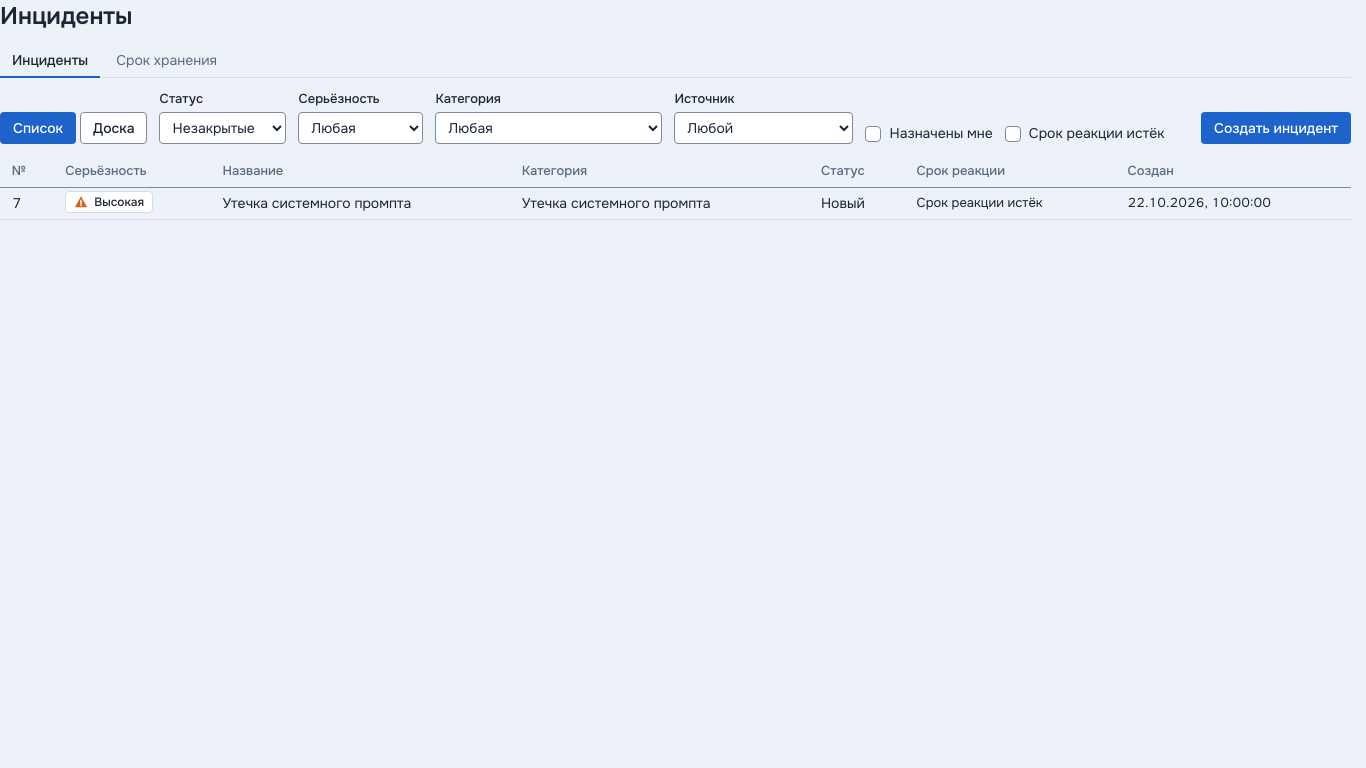
Test case: карточка инцидента › запрещённый переход (409) объясняется в диалоге
Step 1. Click the button with aria-label "Открыть инцидент 7: Утечка системного промпта" → (317, 203), box [222,193,411,214]
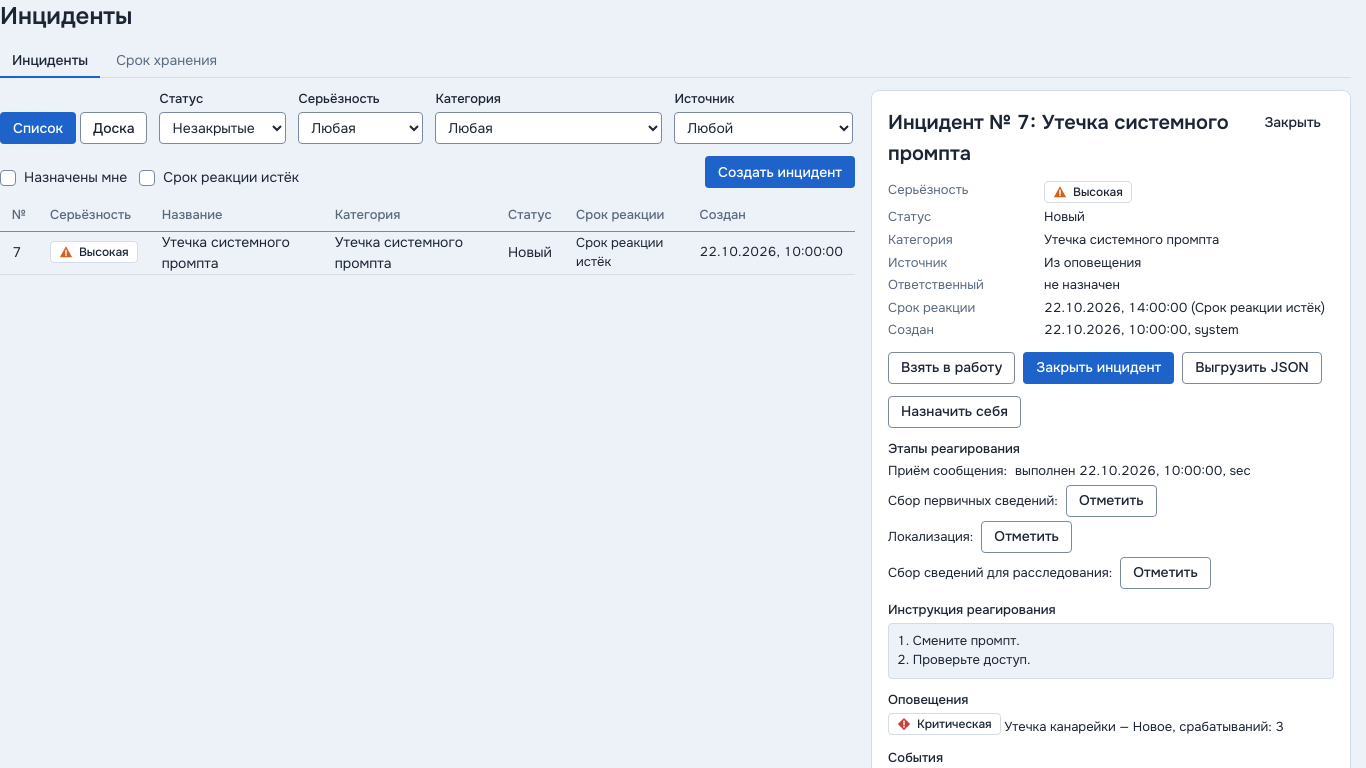
Now the text "Приём сообщения:" is shown, box [888,462,1007,481]
Step 2. Click the button "Взять в работу" → (952, 368), box [888,352,1015,384]
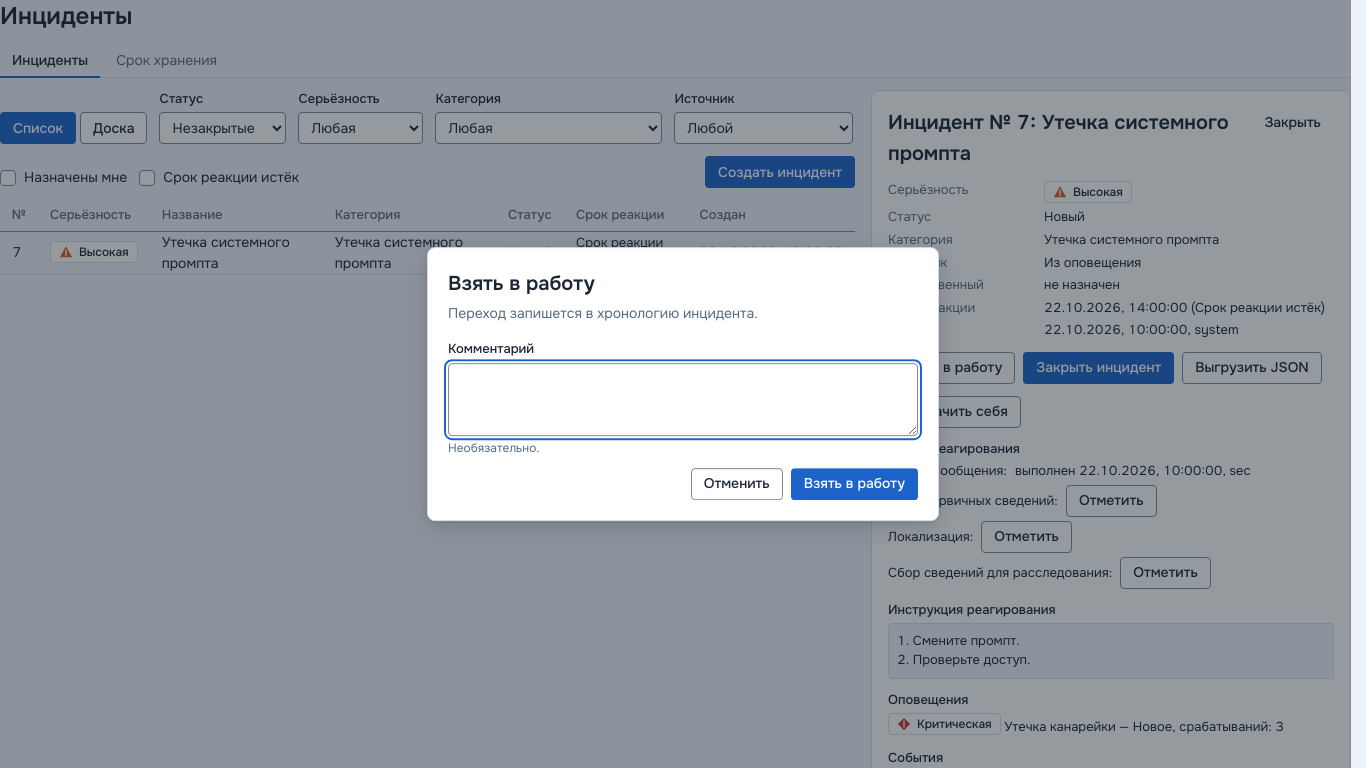
Step 3. Click the button "Взять в работу" → (854, 484), box [791,468,918,500]
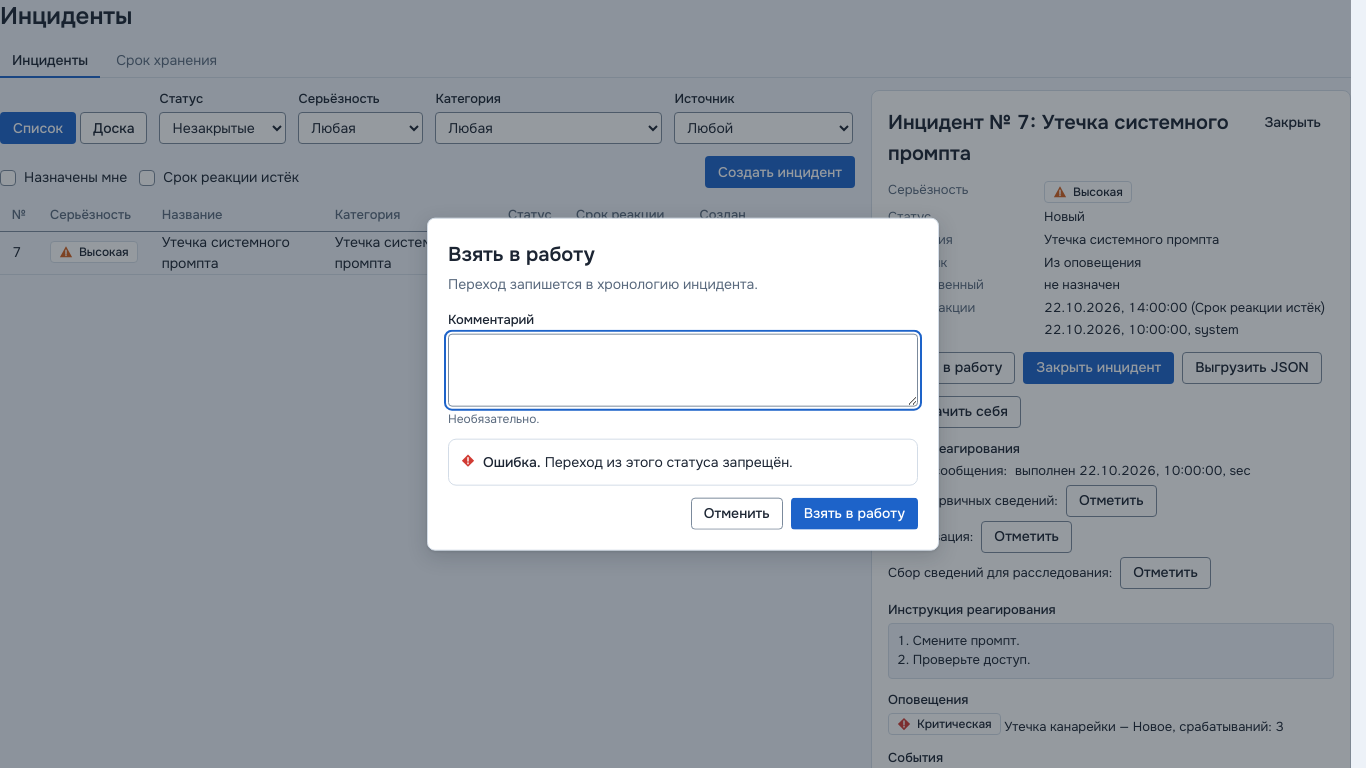
Now the text "Ошибка. Переход из этого статуса запрещён." is shown, box [483,451,793,472]
